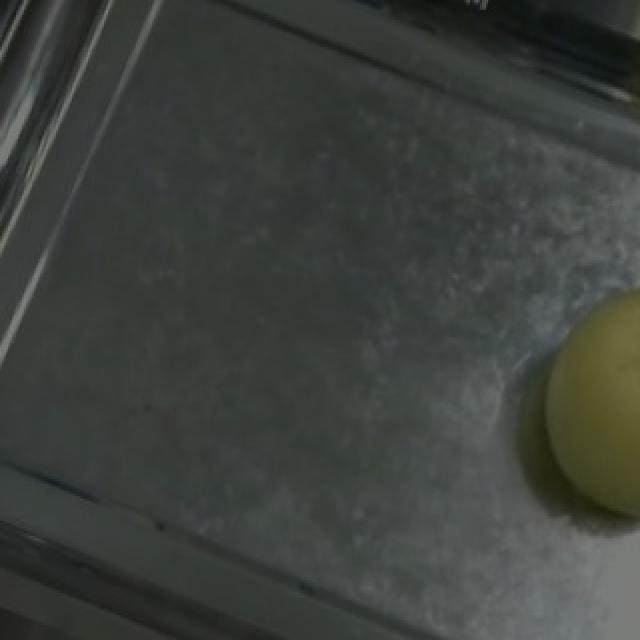Fruit: (504, 256, 640, 548)
